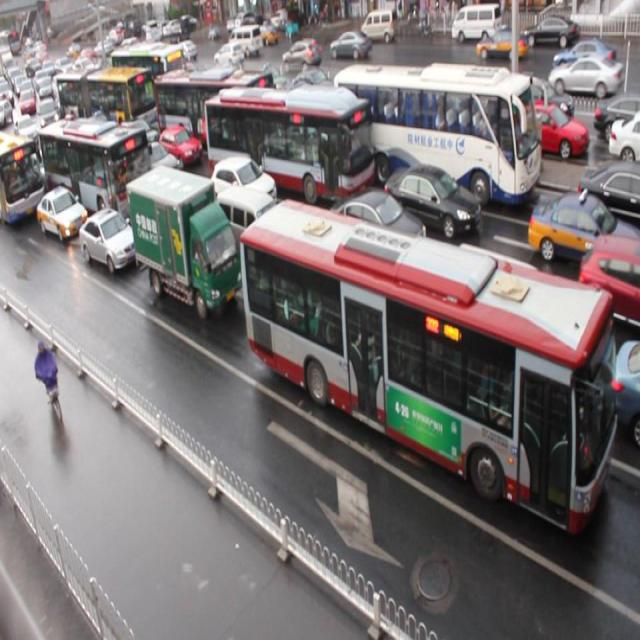bus: (127, 163, 239, 318)
car: (527, 191, 640, 278), (300, 228, 404, 321), (330, 187, 424, 270), (382, 162, 481, 238), (578, 234, 640, 332), (576, 160, 640, 238), (141, 185, 208, 250), (210, 154, 276, 218), (80, 206, 138, 272), (124, 138, 182, 196), (38, 181, 89, 240), (158, 124, 202, 169), (116, 123, 160, 164)
truck: (440, 240, 568, 386), (216, 186, 292, 276)
van: (243, 196, 612, 531), (334, 66, 541, 204), (206, 84, 375, 204), (38, 121, 156, 232), (154, 70, 274, 160), (58, 71, 158, 132), (1, 129, 46, 224)
